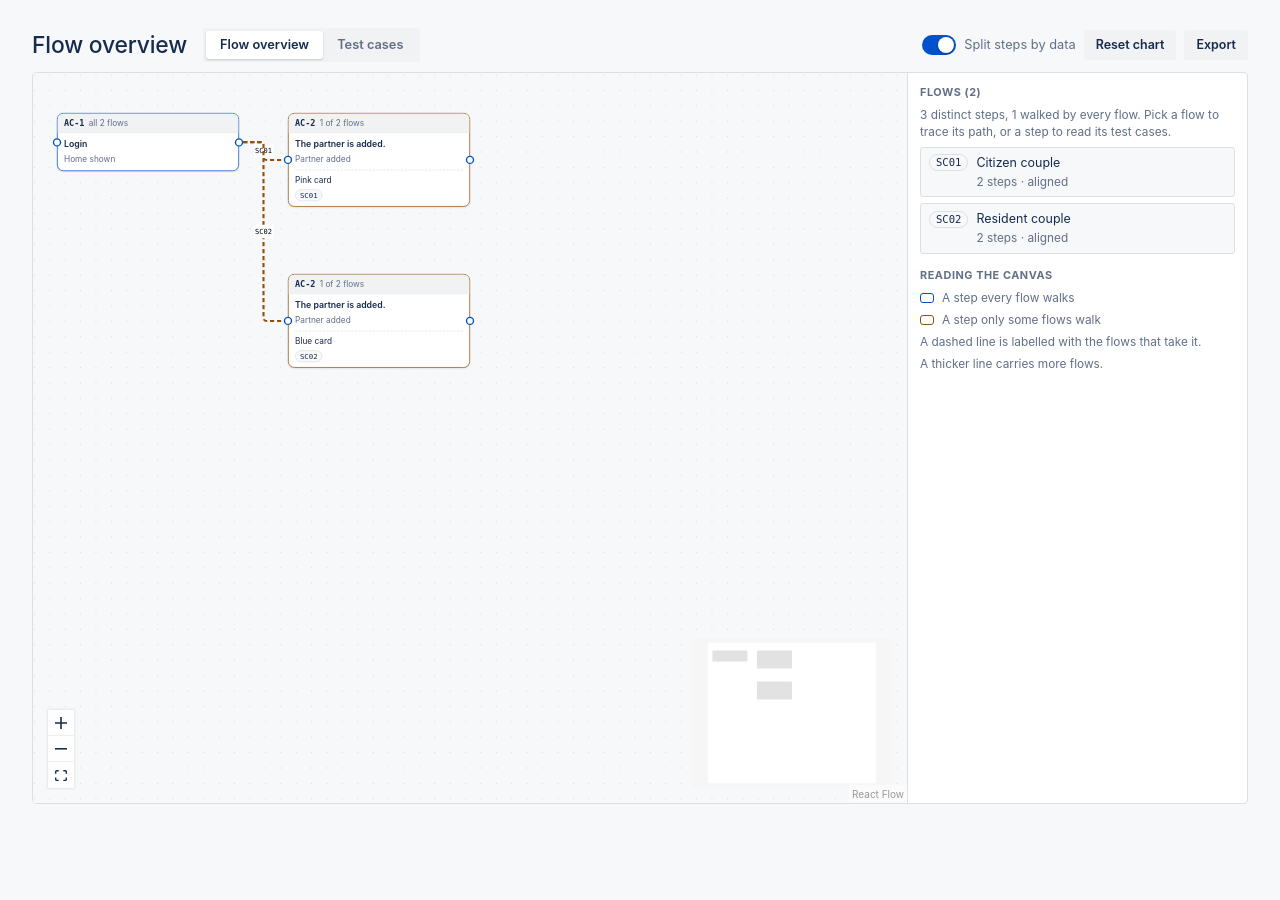
Test: FlowOverviewPage › opens split into one node per data note, and merges on request
Expected: the heading "Flow overview" is shown, [32,29,187,62]
Expected: the number of elements with class "fo-node" is 3, [57,113,239,172]; [288,113,470,207]; [288,274,470,368]
Click the switch labelled "Split steps by data": (999, 45) [922,35,1076,55]
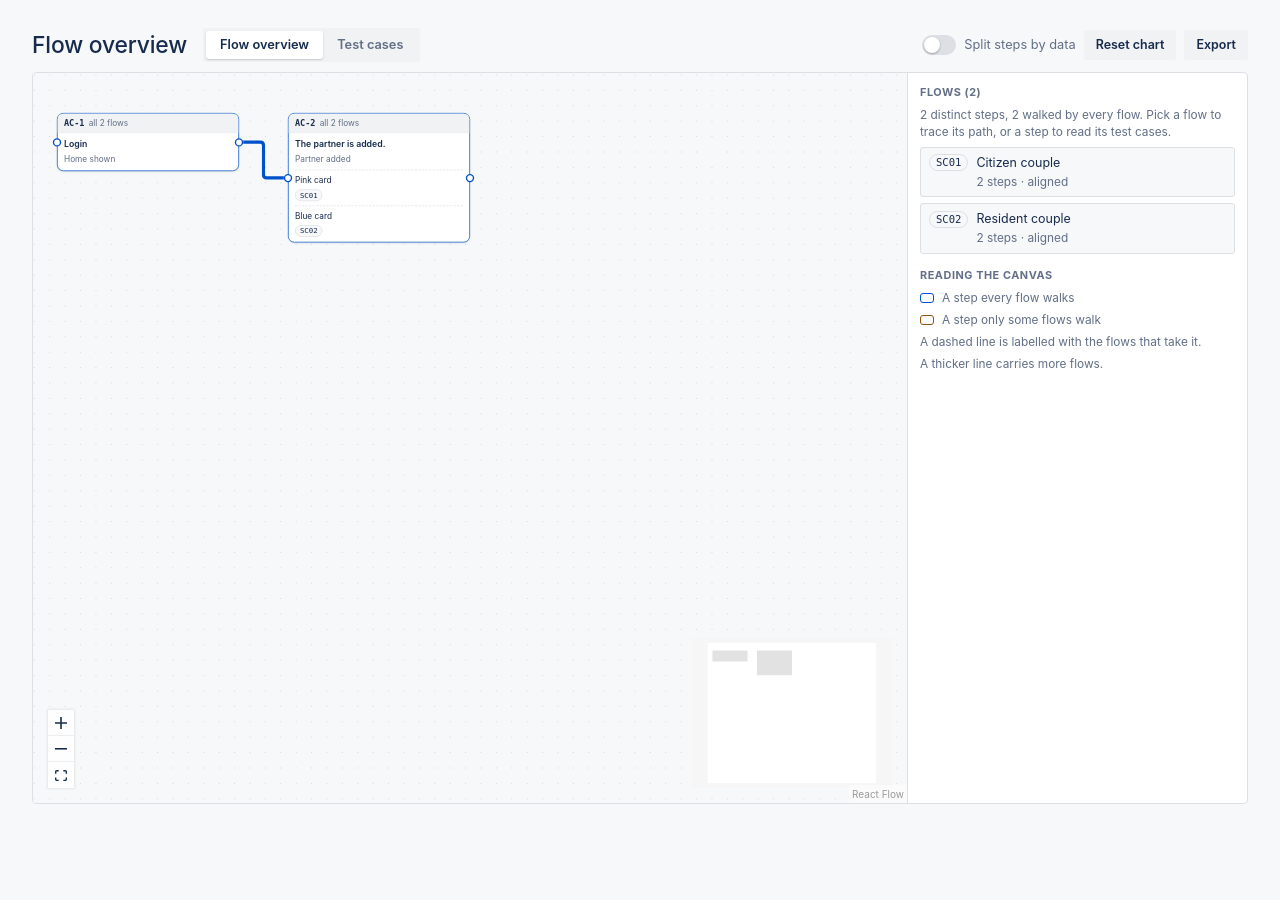
Expected: the number of elements with class "fo-node" is 2, [57,113,239,172]; [288,113,470,243]
